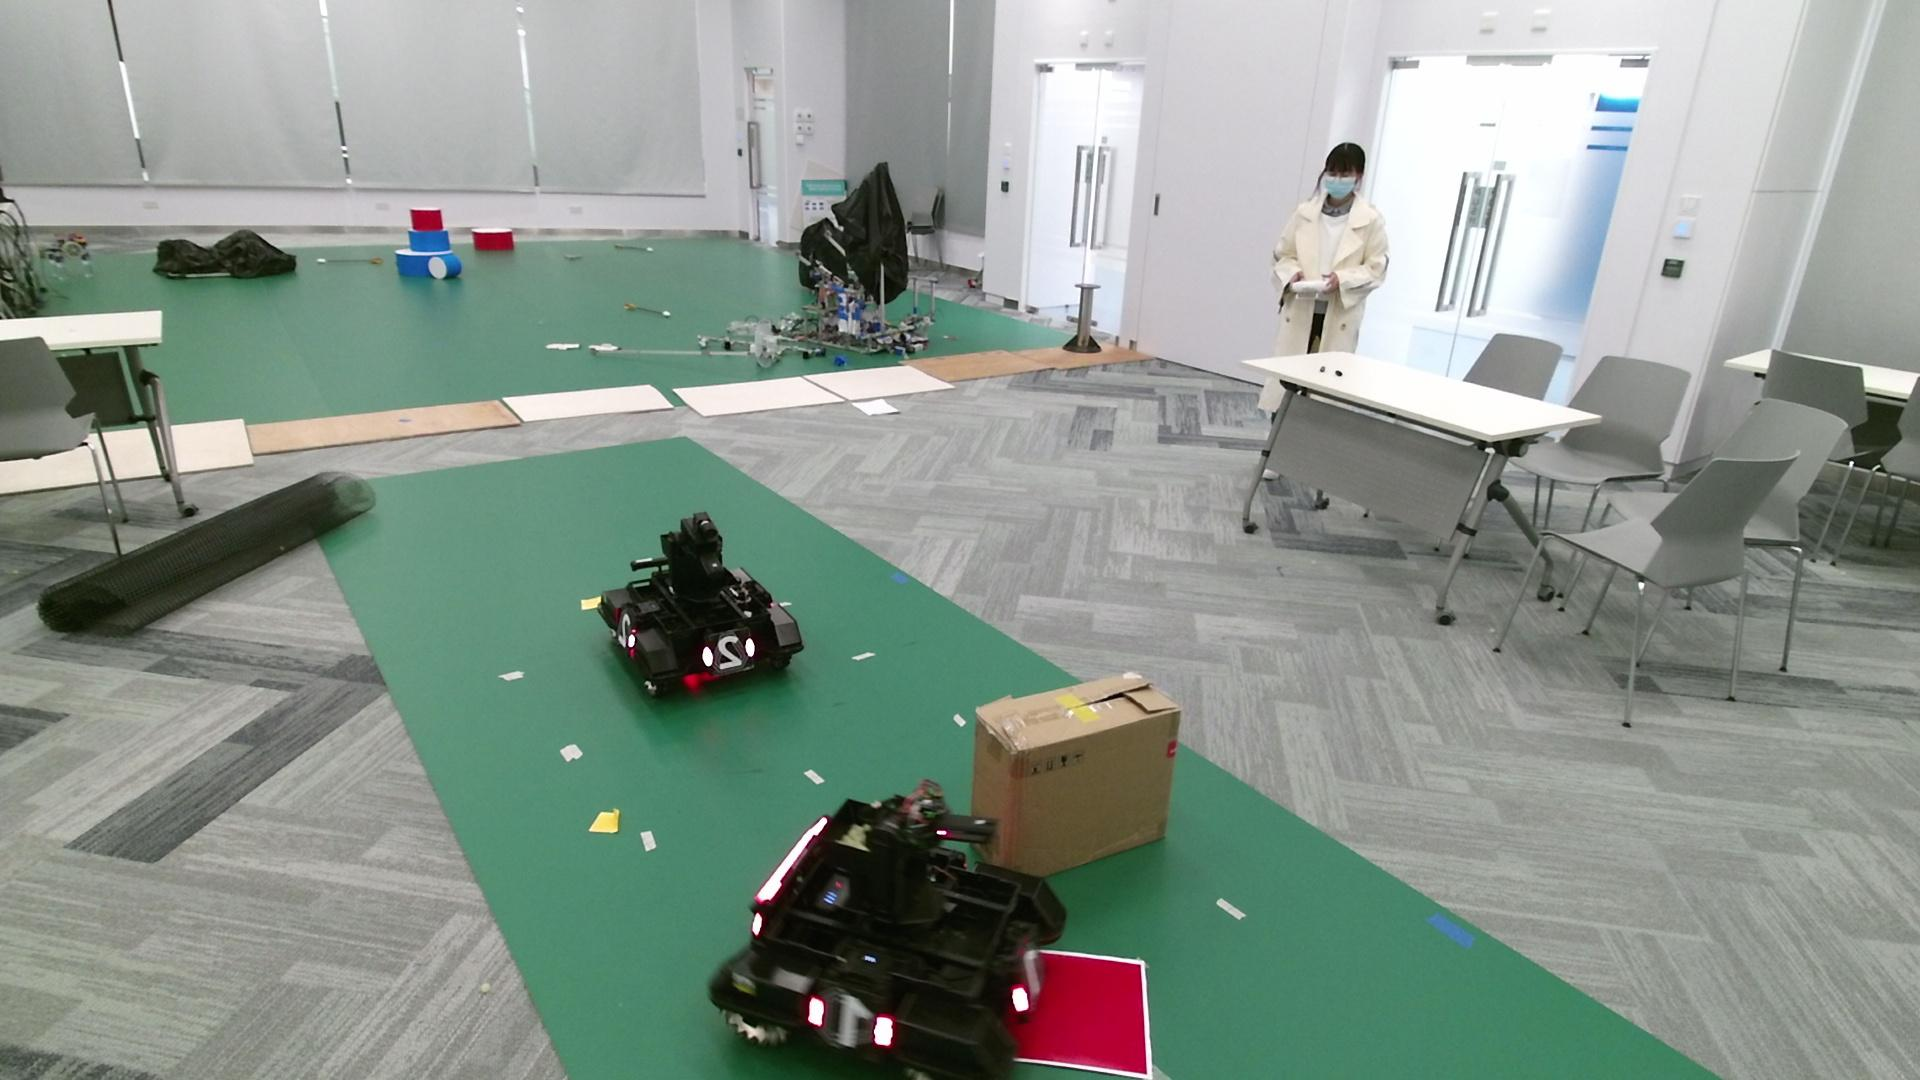robot: (707, 777, 1065, 1075), (597, 510, 804, 699)
